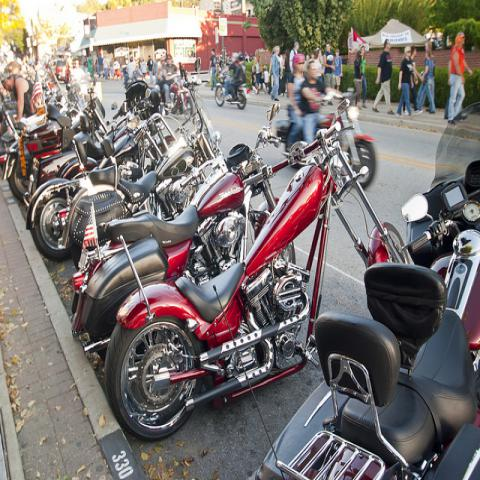motorcycle: (103, 96, 410, 442), (262, 161, 479, 479), (71, 102, 282, 359), (55, 77, 222, 252), (28, 147, 147, 263), (56, 78, 165, 184), (4, 85, 104, 196), (276, 90, 377, 191), (25, 119, 95, 202), (214, 73, 251, 110), (42, 64, 65, 111), (169, 82, 191, 119), (65, 81, 84, 108)
